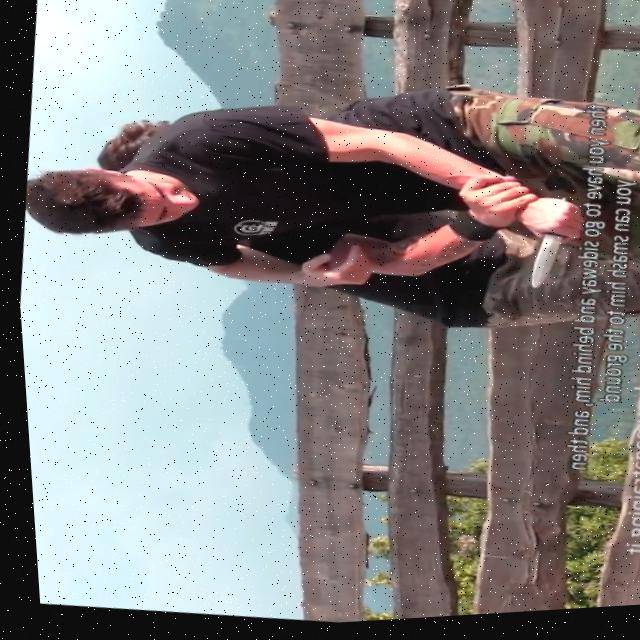knife: (511, 234, 568, 300)
